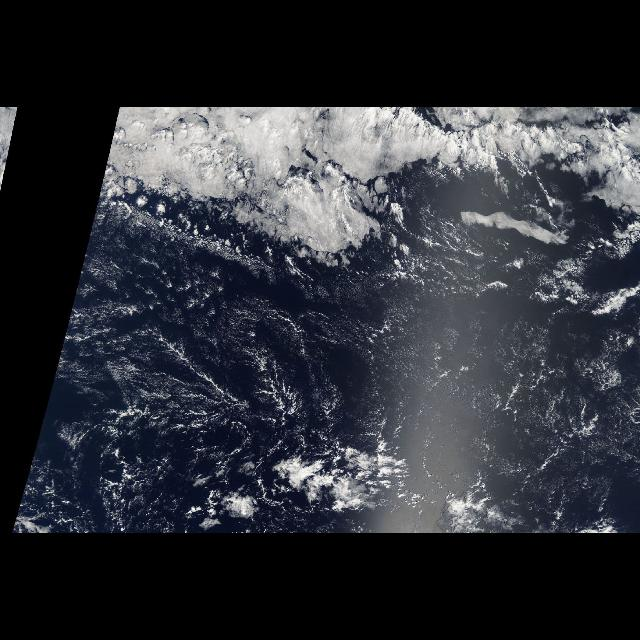Fish: (86, 111, 632, 249)
Sugar: (46, 260, 634, 488)
